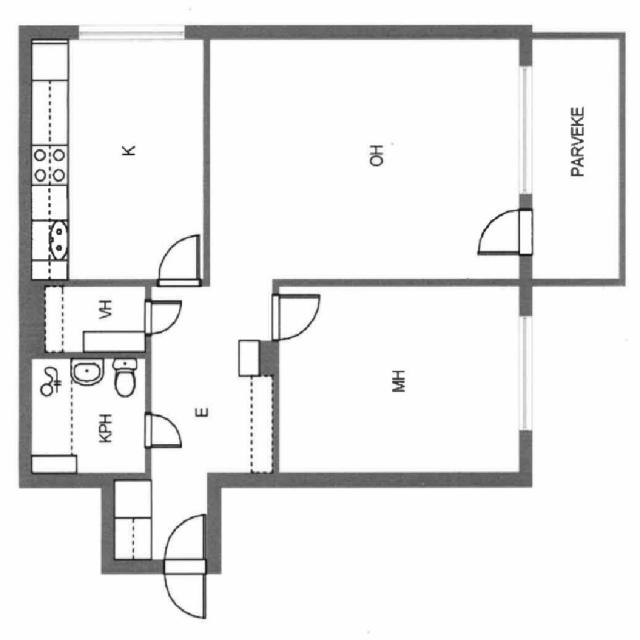door: (163, 515, 204, 573), (163, 559, 204, 617), (478, 210, 532, 253), (158, 235, 200, 286), (273, 295, 319, 338), (145, 414, 182, 447), (145, 302, 180, 332)
